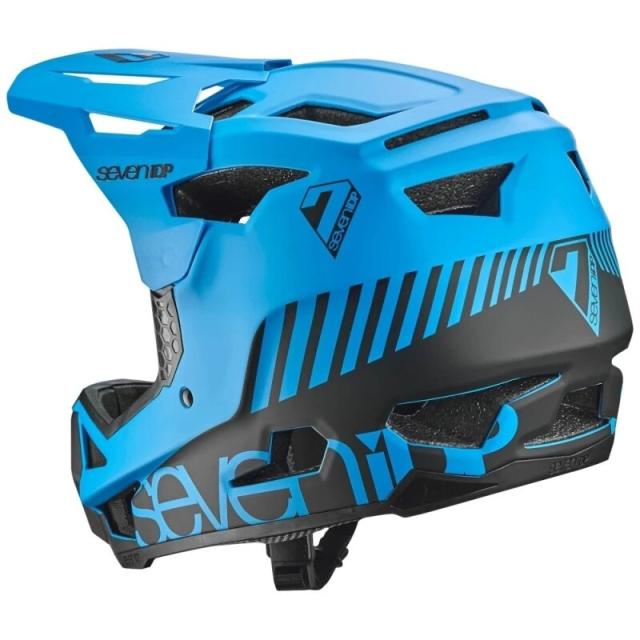illegal_helmet: (3, 34, 637, 602)
